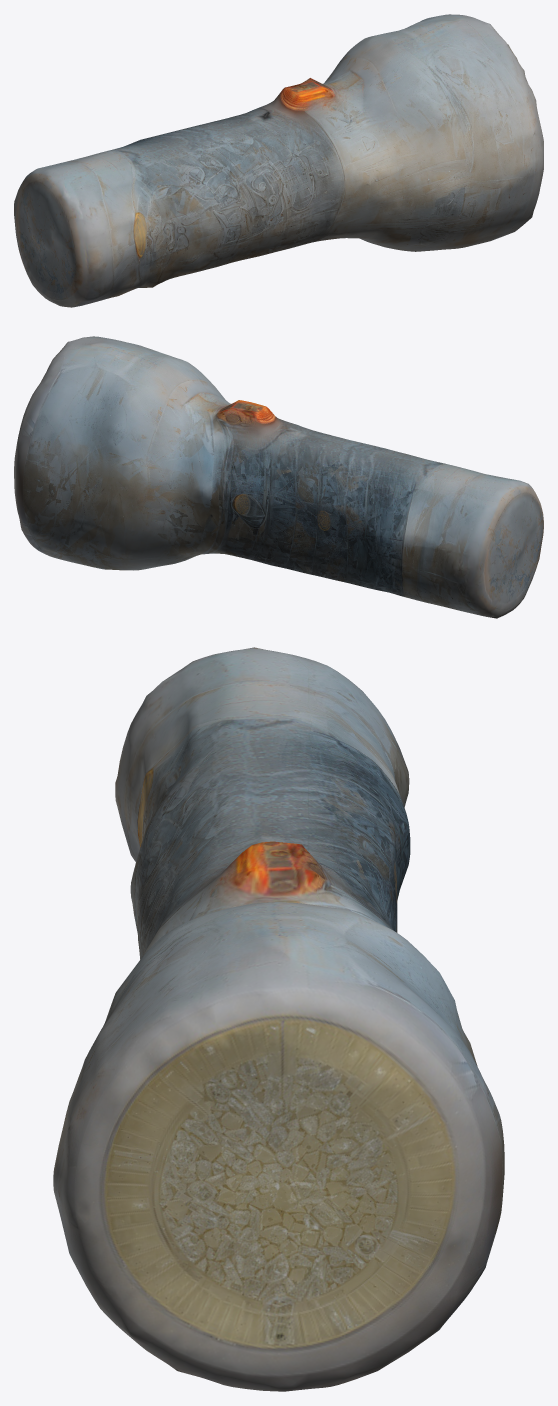
Rendered from flashlight.fbx.
The picture shows the model from 3 angles, top to bottom: view 1: azimuth 30°, elevation 25°; view 2: azimuth 150°, elevation 25°; view 3: azimuth 270°, elevation 25°; orthographic projection. The views are drawn at different scales.
Parts seen in each view (by area): view 1: Mesh_0; view 2: Mesh_0; view 3: Mesh_0.
Boxes of the visible parts, bbox=[...] form: Mesh_0: bbox=[14, 14, 543, 307]; Mesh_0: bbox=[14, 336, 543, 618]; Mesh_0: bbox=[53, 647, 504, 1391].
Size of the model in its own units: 120 by 51.71 by 51.11.
1 material, 1 textured.
